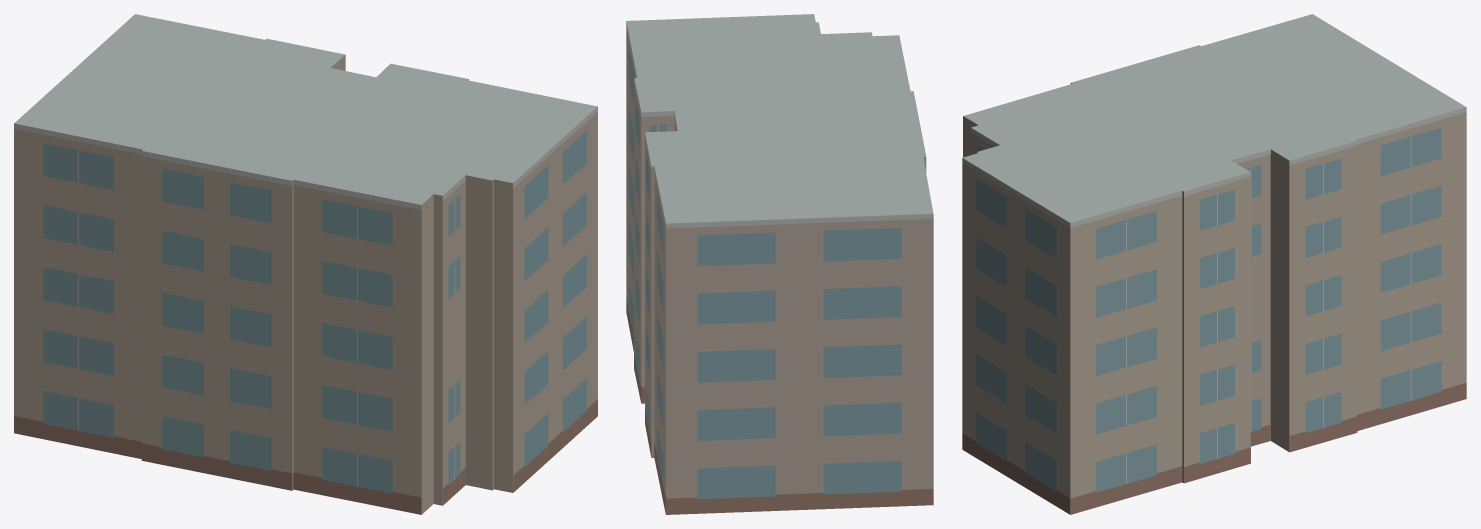
File: survey-upis-32724190.glb
The picture shows the model from 3 angles, left to right: view 1: azimuth 30°, elevation 25°; view 2: azimuth 150°, elevation 25°; view 3: azimuth 270°, elevation 25°; orthographic projection. The views are drawn at different scales.
Visible parts, largest first — view 1: survey-upis-32724190.tmp; view 2: survey-upis-32724190.tmp; view 3: survey-upis-32724190.tmp.
Part boxes in pixels (<box>): survey-upis-32724190.tmp: <box>14,14,597,514</box>; survey-upis-32724190.tmp: <box>626,14,933,514</box>; survey-upis-32724190.tmp: <box>962,14,1466,514</box>.
Size of the model in its own units: 21.99 by 14.3 by 22.41.
